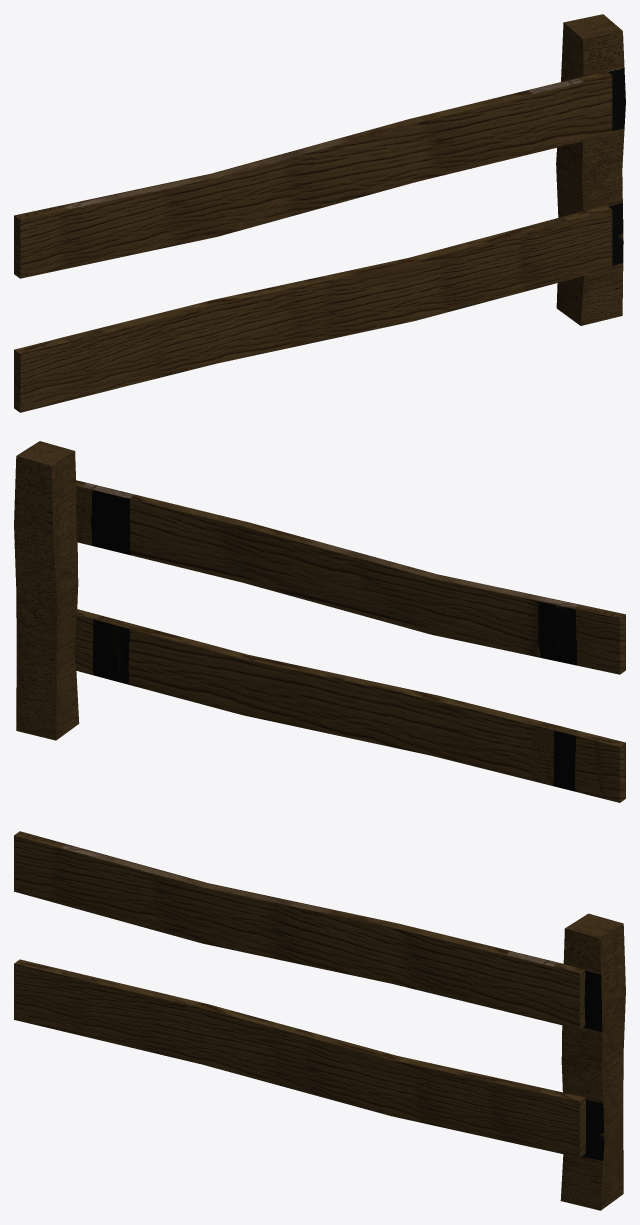
Rendered from Fence_3.fbx.
The picture shows the model from 3 angles, top to bottom: view 1: azimuth 30°, elevation 25°; view 2: azimuth 150°, elevation 25°; view 3: azimuth 330°, elevation 25°; orthographic projection. The views are drawn at different scales.
Parts seen in each view (by area): view 1: Cube.002; view 2: Cube.002; view 3: Cube.002.
Part boxes in pixels (x1,y1,x2,y2): Cube.002: [14, 14, 625, 412]; Cube.002: [14, 441, 625, 802]; Cube.002: [14, 831, 625, 1210].
Bounding box in the file's own units: 168 × 74.98 × 14.63.
1 material, 1 textured.
